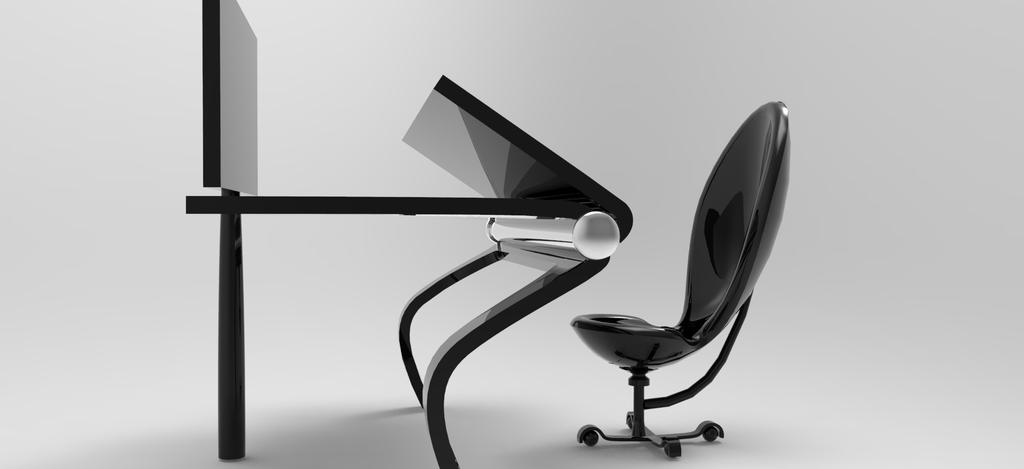Chair: (516, 113, 785, 456)
